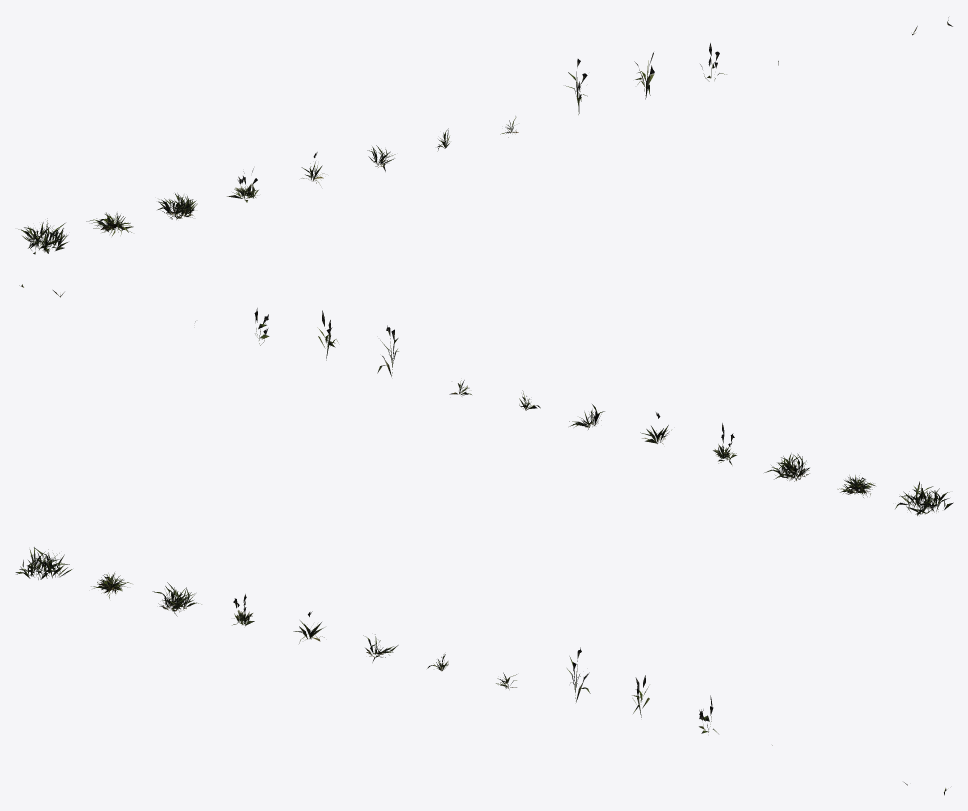
The model's file is grass_medium_01.glb.
3 renders of one model, top to bottom at view 1: azimuth 30°, elevation 25°; view 2: azimuth 150°, elevation 25°; view 3: azimuth 330°, elevation 25°, orthographic.
Visible parts, largest first — view 1: grass_medium_01_small_a_LOD0; view 2: grass_medium_01_small_a_LOD0; view 3: grass_medium_01_small_a_LOD0.
Part boxes in pixels (x1,y1,x2,y2): grass_medium_01_small_a_LOD0: [18, 17, 952, 254]; grass_medium_01_small_a_LOD0: [19, 284, 953, 515]; grass_medium_01_small_a_LOD0: [15, 547, 946, 795].
Bounding box in the file's own units: 5.57 × 0.3384 × 0.3264.
1 material, 1 textured.
